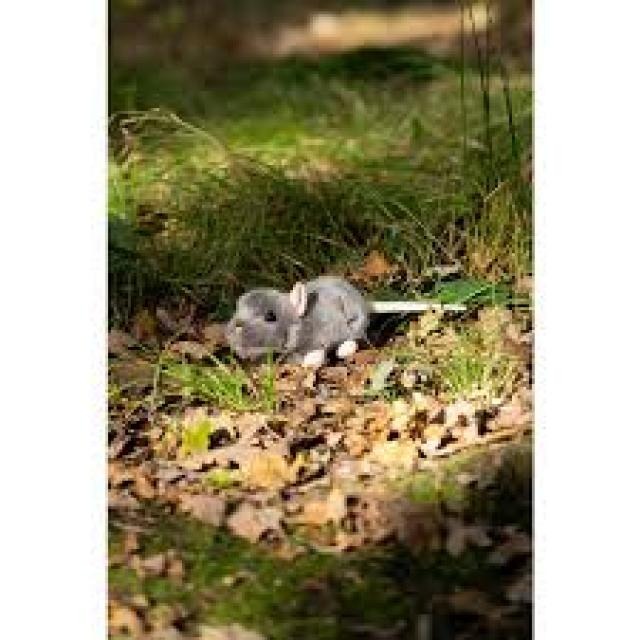rat: (284, 273, 370, 367), (222, 279, 304, 364)
